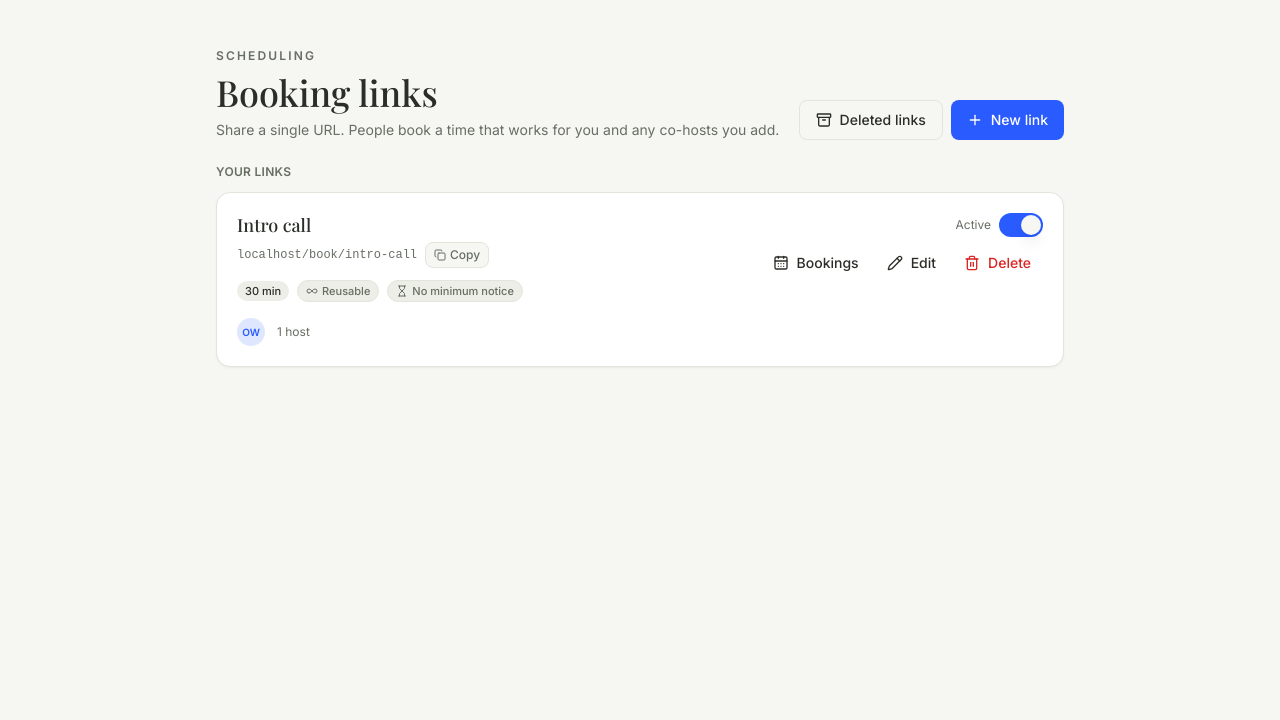
PAC-40 Links page › part A (enabled=false): the confirmation names the archive and promises no erasure
This screenshot has width=1280, height=720.
Click the button with aria-label "Delete Intro call".
click(998, 263)  # box [952,245,1043,281]
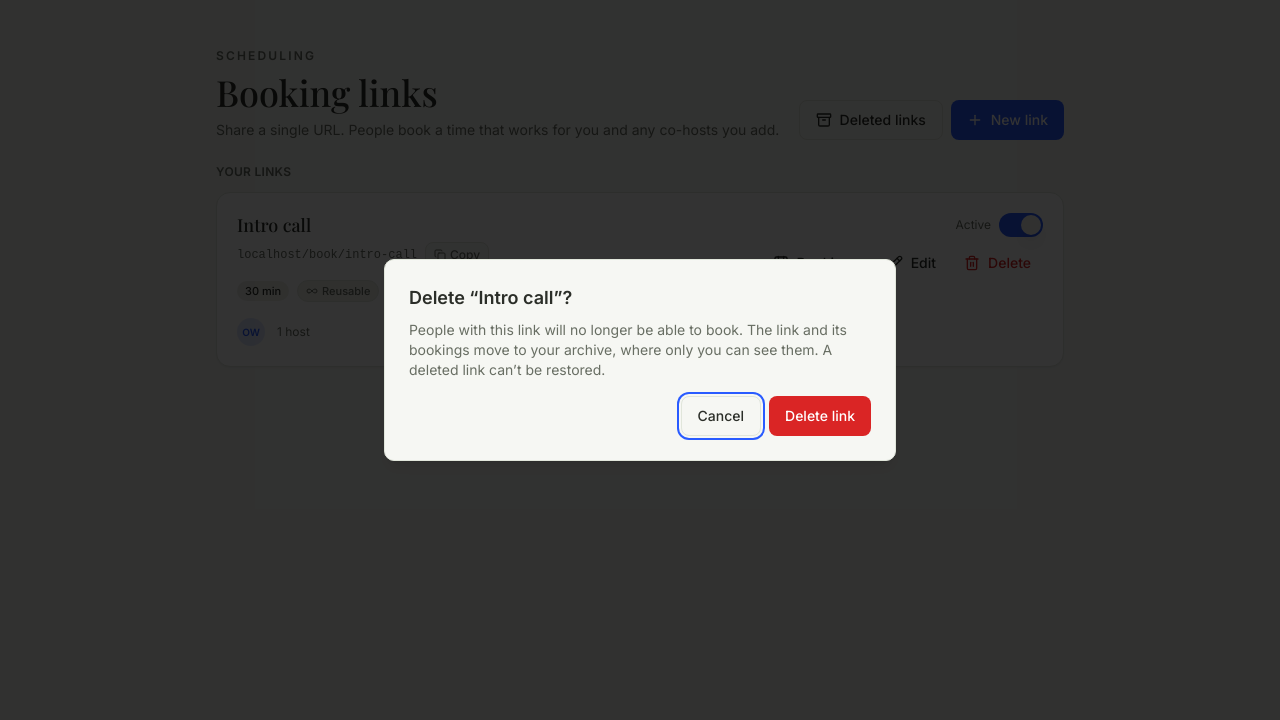
Result: the text with test id "link-delete-copy" shows "People with this link will no longer be able to book. The link and its bookings move to your archive" at [409,321,847,378]
